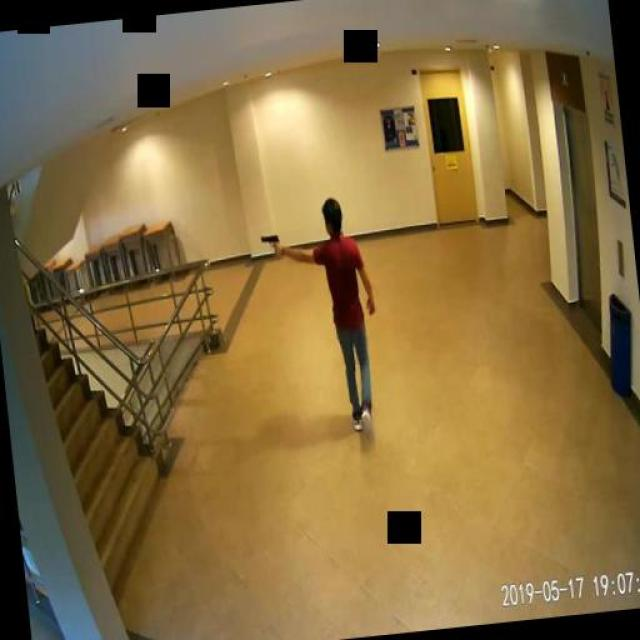gun: (260, 232, 280, 256)
